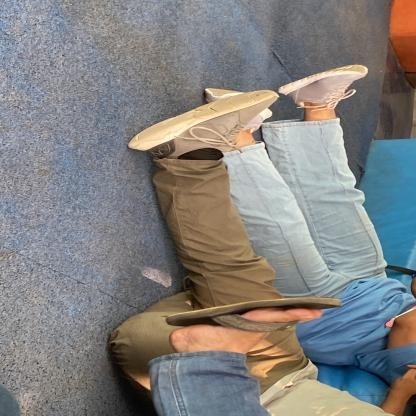leg: (112, 76, 292, 270), (144, 289, 355, 416), (270, 52, 416, 197)
